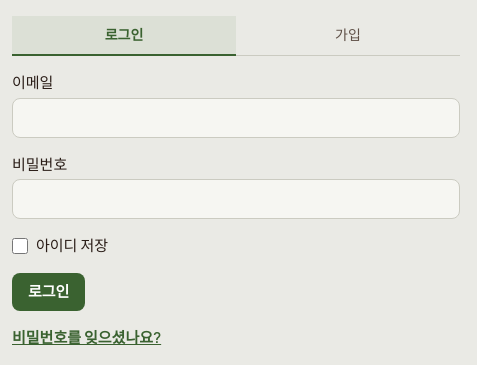
Test case: password reset and unconfirmed login › shows the same reply for forgot-password and locks the button during cooldown
The width and height of the screenshot is (477, 365).
Click the button "비밀번호를 잊으셨나요?": (87, 337) top-left (12, 326), bottom-right (161, 348)
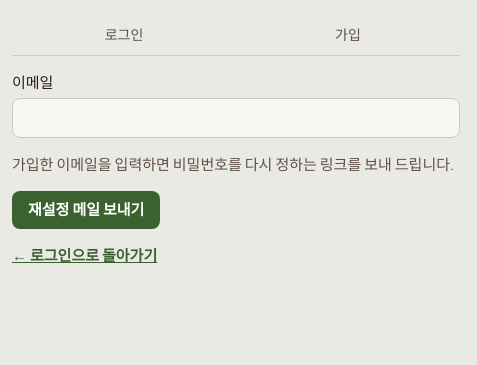
In the field labelled "이메일": (236, 118) top-left (12, 98), bottom-right (460, 138), type "who@b.co"
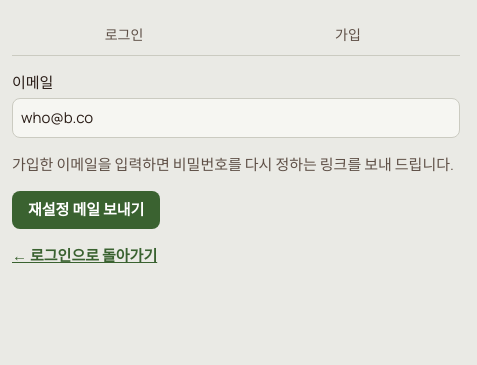
Submit the form
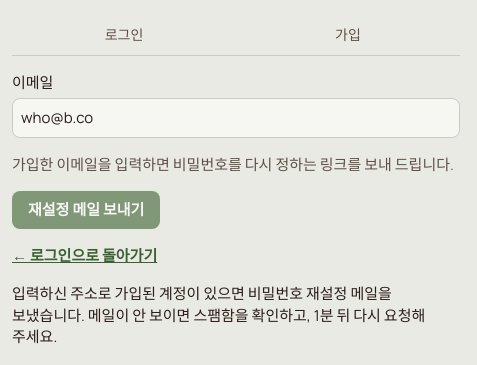
Expected: the message shows "계정이 있으면", top-left (12, 283), bottom-right (425, 347)
Expected: the button "재설정 메일 보내기" is disabled, top-left (12, 191), bottom-right (160, 229)
